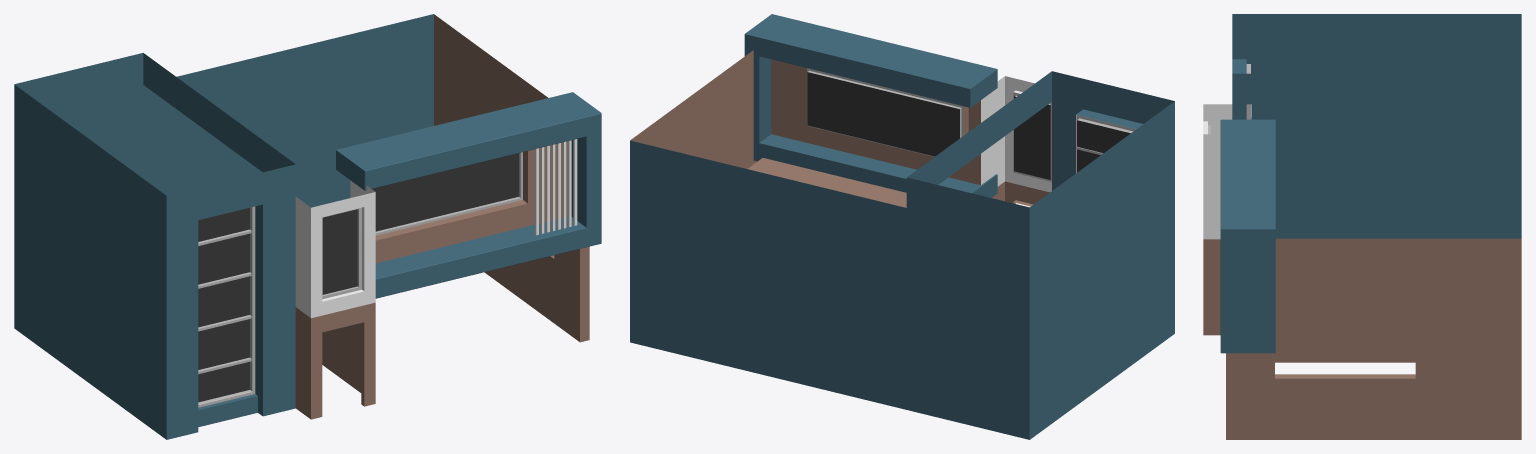
Rendered from Casa4.obj.
3 renders of one model, left to right at view 1: azimuth 30°, elevation 25°; view 2: azimuth 150°, elevation 25°; view 3: azimuth 270°, elevation 25°, orthographic. The views are drawn at different scales.
Visible parts, largest first — view 1: Casa4; view 2: Casa4; view 3: Casa4.
Part boxes in pixels (<box>): Casa4: <box>14,14,601,439</box>; Casa4: <box>630,14,1174,439</box>; Casa4: <box>1203,14,1521,439</box>.
Bounding box in the file's own units: 10.63 × 5.78 × 7.2.
Materials: 1 (1 with a texture image).
